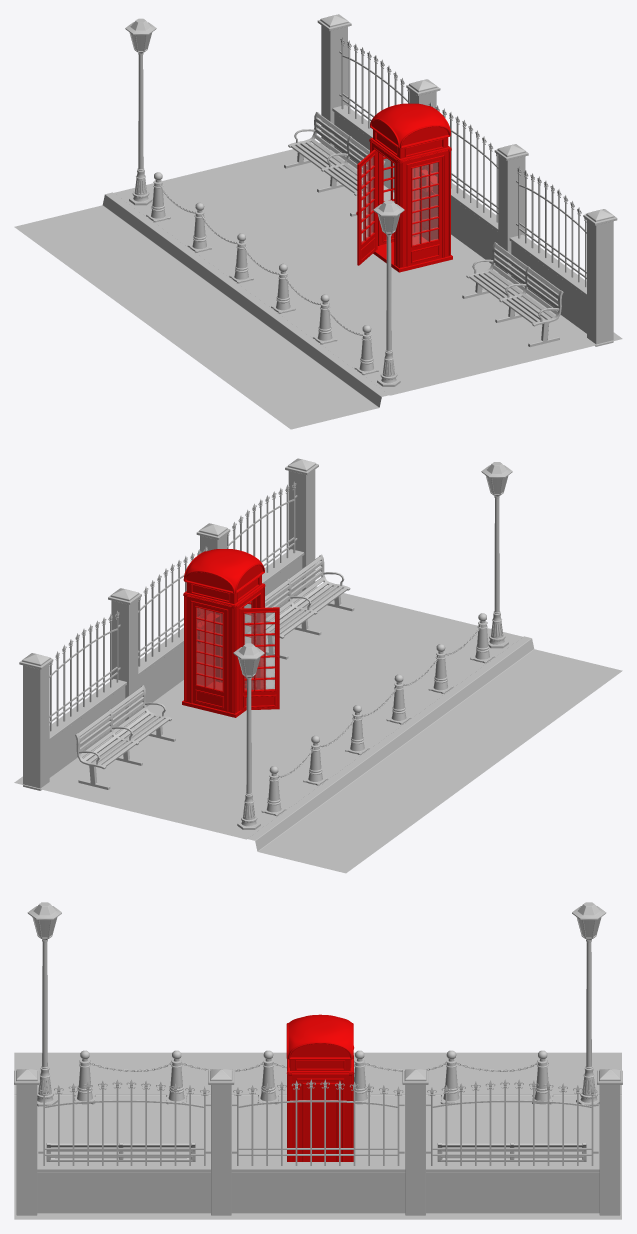
Rendered from phone_booth.fbx.
3 renders of one model, top to bottom at view 1: azimuth 30°, elevation 25°; view 2: azimuth 150°, elevation 25°; view 3: azimuth 270°, elevation 25°, orthographic. The views are drawn at different scales.
Parts seen in each view (by area): view 1: Plane, Cube.002, Cube.034, Cube.029, Cube.041, Cube.024, top_1, Cube.023, Cube.032, Cube.005, Cube.031, Cube.026 (+18 smaller); view 2: Plane, Cube.002, Cube.041, Cube.034, Cube.032, Cube.030, Cube.029, Cube.027, top_1, Cube.028, Cube.012, Cube.026 (+17 smaller); view 3: Plane, Cube.026, Cube.024, Cube.030, Cube.002, Cube.031, Cube.025, Cube.028, Cube.029, Cube.032, Cube.023, Cube.027 (+13 smaller).
Part boxes in pixels (x1,y1,x2,y2): Plane: (14, 142, 622, 429); Cube.002: (370, 138, 452, 272); Cube.034: (462, 242, 563, 347); Cube.029: (583, 209, 617, 346); Cube.041: (284, 112, 384, 216); Cube.024: (509, 234, 586, 333); top_1: (370, 103, 450, 148); Cube.023: (494, 144, 528, 279); Cube.032: (317, 14, 351, 149); Cube.005: (408, 157, 442, 265); Cube.031: (516, 167, 586, 287); Cube.026: (451, 183, 498, 266); Plane: (14, 586, 622, 873); Cube.002: (182, 583, 264, 717); Cube.041: (75, 685, 175, 789); Cube.034: (265, 554, 354, 659); Cube.032: (19, 653, 53, 790); Cube.030: (49, 679, 126, 777); Cube.029: (285, 458, 318, 593); Cube.027: (108, 588, 141, 723); top_1: (183, 549, 264, 593); Cube.028: (49, 611, 120, 731); Cube.012: (192, 603, 226, 711); Cube.026: (138, 627, 183, 710); Plane: (14, 1052, 621, 1219); Cube.026: (231, 1162, 405, 1213); Cube.024: (37, 1162, 210, 1213); Cube.030: (426, 1162, 599, 1213); Cube.002: (287, 1055, 353, 1161); Cube.031: (38, 1079, 210, 1165); Cube.025: (232, 1079, 404, 1165); Cube.028: (426, 1079, 598, 1165); Cube.029: (14, 1069, 39, 1215); Cube.032: (597, 1069, 622, 1215); Cube.023: (208, 1069, 234, 1215); Cube.027: (402, 1069, 428, 1215).
Size of the model in its own units: 724 by 396 by 1049.
